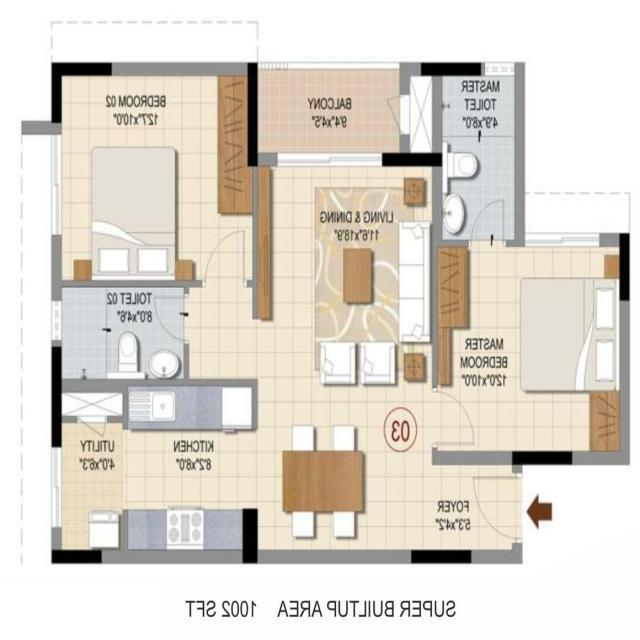Balcony-Sitout: (256, 67, 406, 157)
Bedroom: (53, 67, 254, 288)
Bedroom with Toilet: (433, 62, 629, 463)
Dining: (280, 422, 368, 541)
Enterance-Foyer: (433, 462, 555, 557)
Kitchen: (122, 379, 256, 560)
Living: (260, 155, 441, 388)
Toilet: (437, 67, 523, 244), (54, 282, 189, 387)
Utility: (53, 385, 126, 560)
